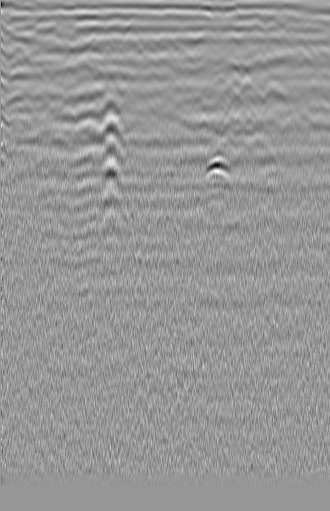가스: (202, 151, 234, 181)
상수: (276, 24, 319, 57)
오수: (3, 11, 42, 42)
우수: (147, 29, 185, 58)
